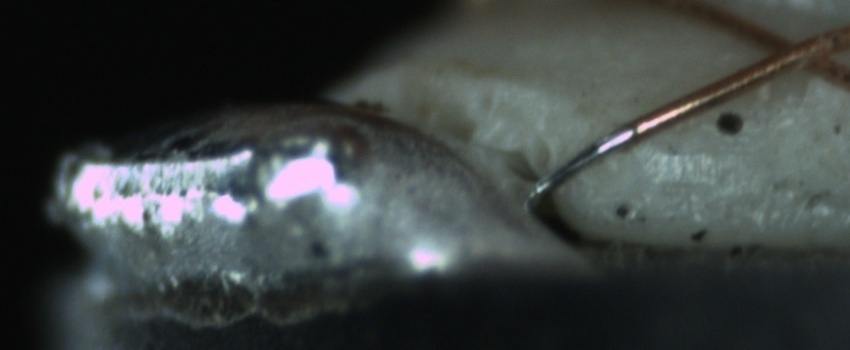CL: (747, 18, 844, 82)
DL: (629, 126, 763, 179)
TS: (530, 126, 639, 200)
TTCW: (535, 102, 677, 200)
